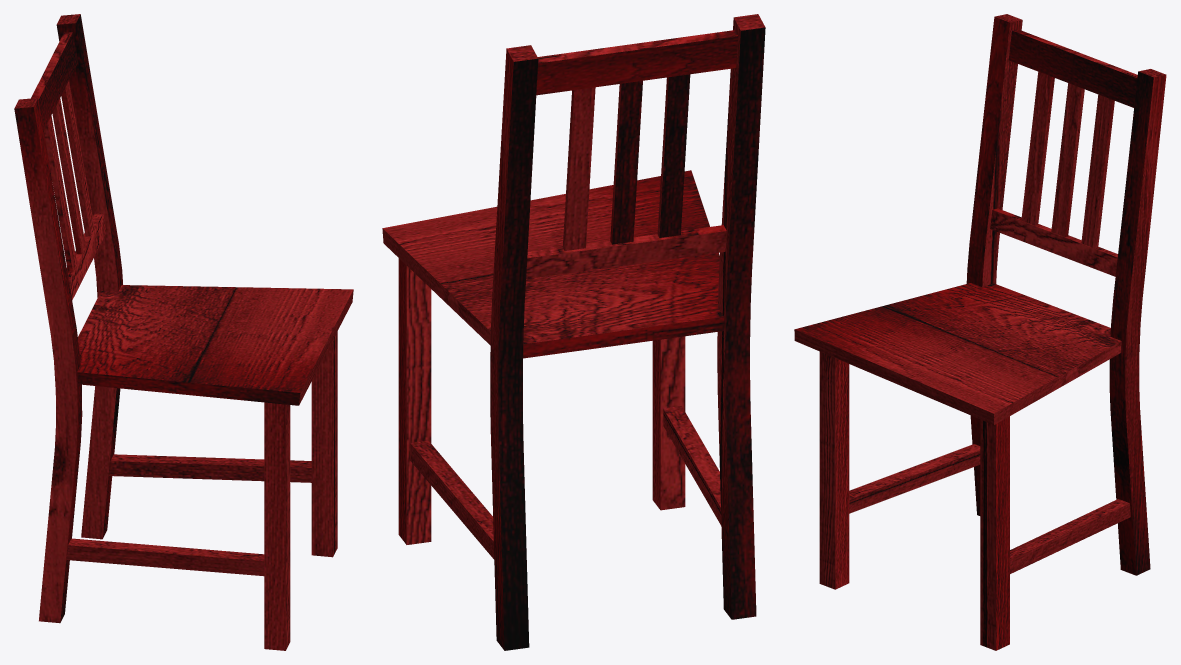
Rendered from silla.glb.
3 views of the same model, side by side, from view 1: azimuth 30°, elevation 25°; view 2: azimuth 150°, elevation 25°; view 3: azimuth 270°, elevation 25° (orthographic). The views are drawn at different scales.
Visible parts, largest first — view 1: Cube.004; view 2: Cube.004; view 3: Cube.004.
Part boxes in pixels (<box>): Cube.004: <box>14,14,353,650</box>; Cube.004: <box>382,14,765,650</box>; Cube.004: <box>794,14,1166,650</box>.
Bounding box in the file's own units: 0.9878 × 1.47 × 1.
1 material, 1 textured.
